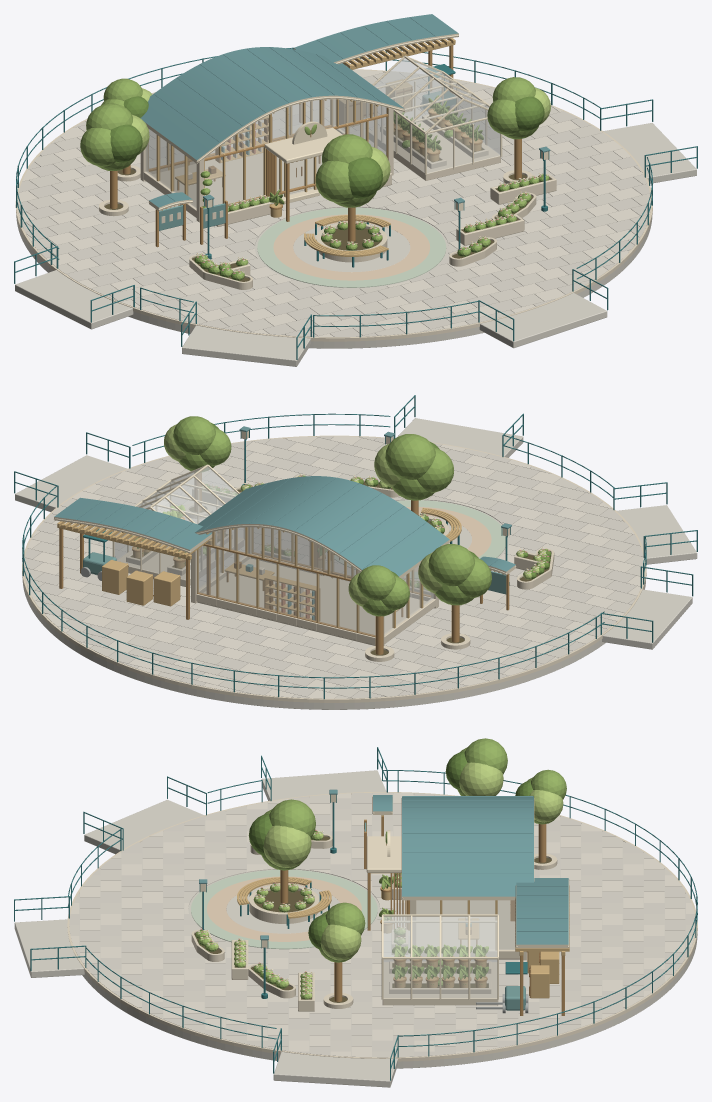
File: industry.glb
3 views of the same model, one above another, from view 1: azimuth 30°, elevation 25°; view 2: azimuth 150°, elevation 25°; view 3: azimuth 270°, elevation 25° (orthographic). The views are drawn at different scales.
Visible parts, largest first — view 1: Site_Components__WarmLimestonePaver0, Site_Components__WarmLimestonePaver1, Site_Components__WarmLimestonePaver2, Site_Components__stone, YouthInnovationWorkshop__roof, Landscape_Components__leaf, YouthInnovationWorkshop__Clear warm architectural glazing, AgriculturalGlasshouse__Clear warm architectural glazing, Landscape_Components__cream, Site_Components__rail, Landscape_Components__leafDark, Landscape_Components__Soft sage stone inlay (+25 smaller); view 2: Site_Components__WarmLimestonePaver2, Site_Components__WarmLimestonePaver0, Site_Components__WarmLimestonePaver1, Site_Components__stone, YouthInnovationWorkshop__roof, YouthInnovationWorkshop__Clear warm architectural glazing, Landscape_Components__leaf, Site_Components__rail, YouthInnovationWorkshop__floor, Site_Components__cream, AgriculturalGlasshouse__Clear warm architectural glazing, YouthInnovationWorkshop__woodLight (+19 smaller); view 3: Site_Components__WarmLimestonePaver0, Site_Components__WarmLimestonePaver2, Site_Components__WarmLimestonePaver1, Site_Components__stone, YouthInnovationWorkshop__roof, AgriculturalGlasshouse__Clear warm architectural glazing, Landscape_Components__leaf, Site_Components__rail, Landscape_Components__leafLight, Landscape_Components__cream, Site_Components__cream, YouthInnovationWorkshop__floor (+18 smaller).
Boxes of the visible parts, x1,y1,x2,y2 form: Site_Components__WarmLimestonePaver0: (25,72,650,336); Site_Components__WarmLimestonePaver1: (18,70,643,337); Site_Components__WarmLimestonePaver2: (18,75,650,337); Site_Components__stone: (15,72,696,366); YouthInnovationWorkshop__roof: (140,47,403,159); Landscape_Components__leaf: (80,77,549,280); YouthInnovationWorkshop__Clear warm architectural glazing: (146,99,386,208); AgriculturalGlasshouse__Clear warm architectural glazing: (374,58,500,173); Landscape_Components__cream: (99,114,556,289); Site_Components__rail: (14,47,697,359); Landscape_Components__leafDark: (110,96,544,279); Landscape_Components__Soft sage stone inlay: (257,207,446,287); Site_Components__WarmLimestonePaver2: (24,436,643,698); Site_Components__WarmLimestonePaver0: (24,436,644,698); Site_Components__WarmLimestonePaver1: (27,436,642,698); Site_Components__stone: (15,418,697,709); YouthInnovationWorkshop__roof: (195,476,449,576); YouthInnovationWorkshop__Clear warm architectural glazing: (198,527,433,635); Landscape_Components__leaf: (130,416,548,616); Site_Components__rail: (14,395,697,699); YouthInnovationWorkshop__floor: (203,558,426,634); Site_Components__cream: (22,435,646,702); AgriculturalGlasshouse__Clear warm architectural glazing: (114,467,237,579); YouthInnovationWorkshop__woodLight: (197,527,423,632); Site_Components__WarmLimestonePaver0: (69,792,695,1057); Site_Components__WarmLimestonePaver2: (69,793,695,1056); Site_Components__WarmLimestonePaver1: (70,793,694,1057); Site_Components__stone: (14,770,697,1087); YouthInnovationWorkshop__roof: (402,796,533,896); AgriculturalGlasshouse__Clear warm architectural glazing: (383,916,497,997); Landscape_Components__leaf: (195,738,566,999); Site_Components__rail: (14,747,697,1080); Landscape_Components__leafLight: (203,762,563,998); Landscape_Components__cream: (191,834,557,1011); Site_Components__cream: (67,792,697,1061); YouthInnovationWorkshop__floor: (416,900,515,948).
Size of the model in its own units: 29.99 by 5.3 by 27.82.
